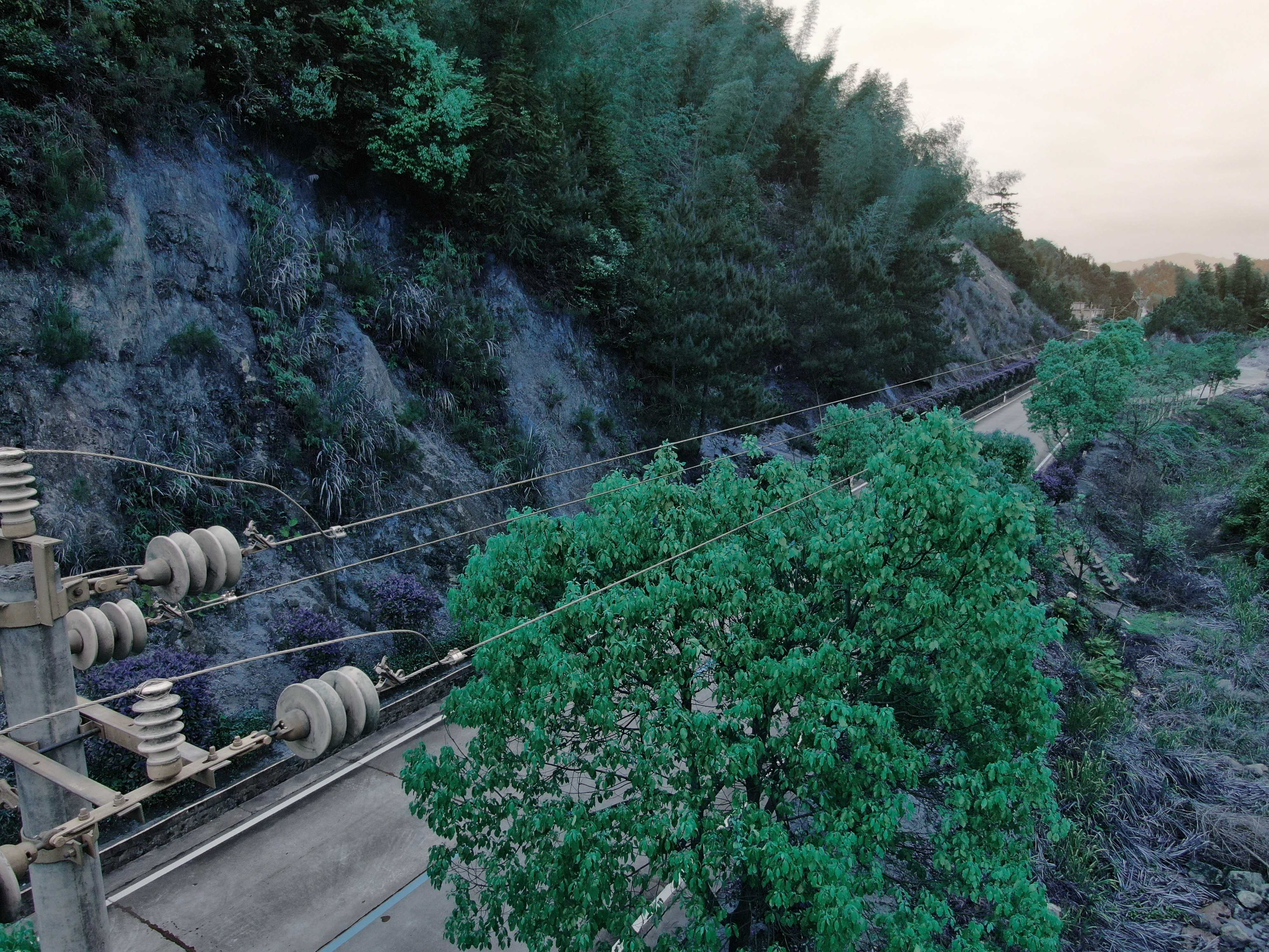severe_soiling_no_discharge_whole: (269, 662, 383, 764), (134, 519, 246, 608), (127, 675, 192, 785), (0, 836, 44, 928), (0, 446, 42, 539)
